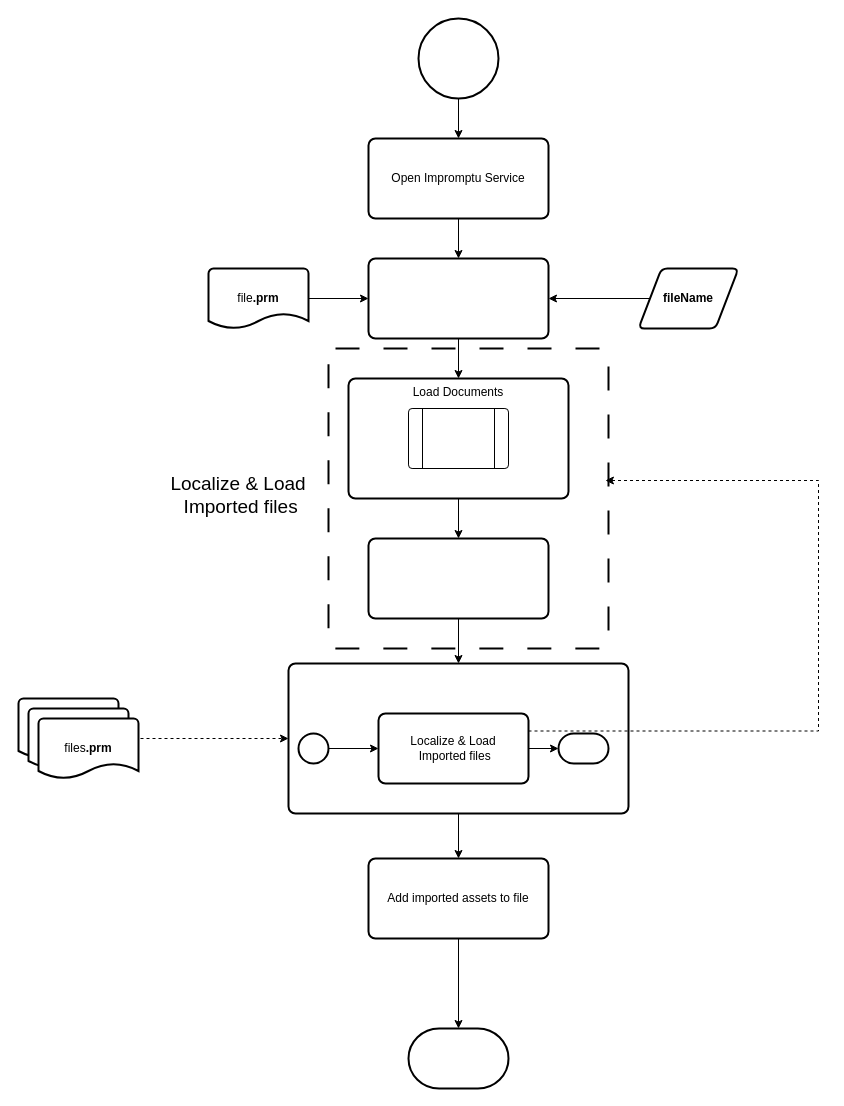
Some shapes in this 844 by 1106 pixel diagram are drawn without their labels. Each missing label, with the box of its shape:
for each file of the imports: (287, 662, 629, 814)
getLangiumDocument: (408, 408, 508, 468)
Localize document: (367, 257, 549, 339)
Read Imports: (367, 537, 549, 619)
